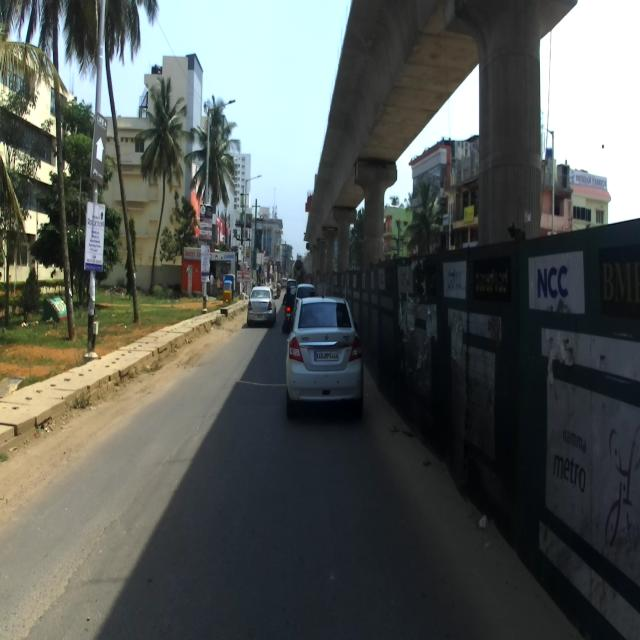car ahead at: (285, 295, 364, 410), (245, 285, 275, 323)
